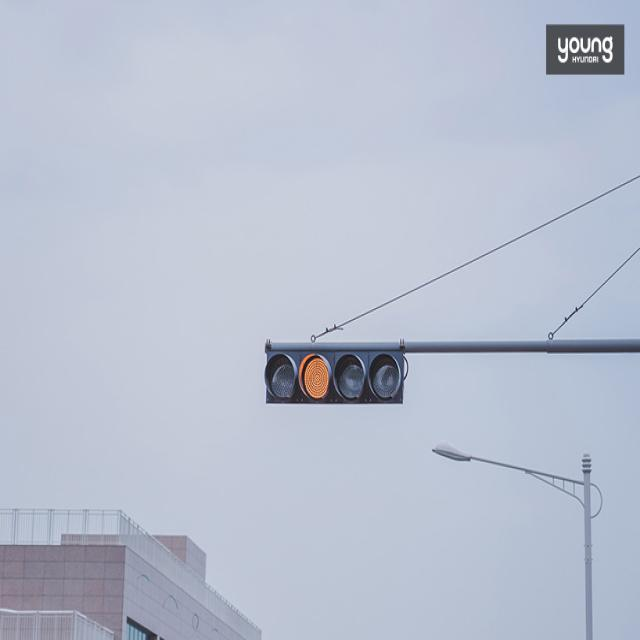Yellow Light: (294, 346, 334, 402)
